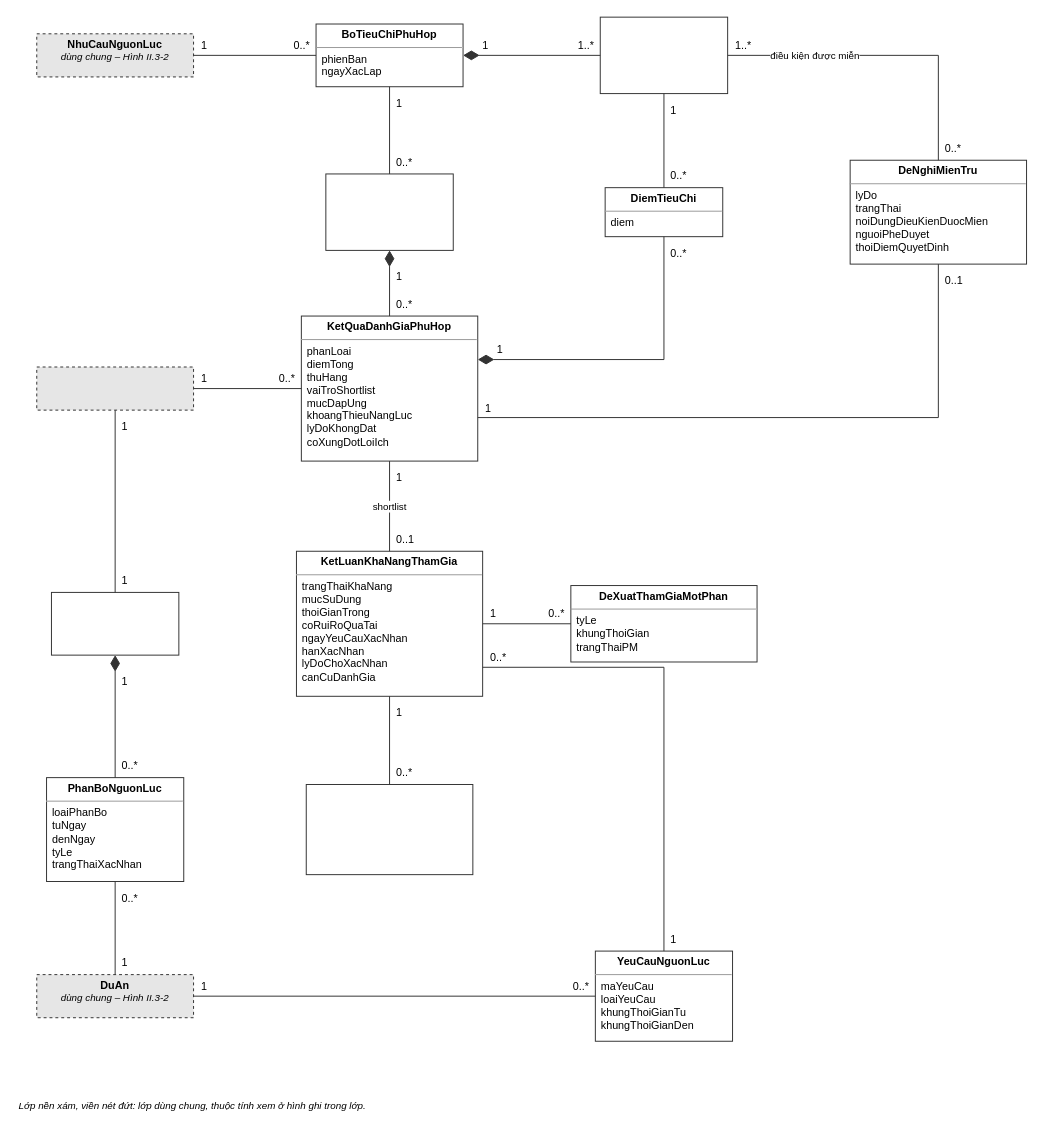
Some shapes in this 1044 by 1141 pixel diagram are drawn without their labels. The box of each missing label's shape, as (x1, y1, x2, y2) in pixels:
HoSoVuotTaiNgoaiLe mucCanhBao lyDo capThamQuyen trangThai: (305, 784, 473, 875)
LichNguonLuc thoiGianNghi ngayCapNhat: (50, 591, 179, 655)
NguonLuc dùng chung – Hình II.3-2: (36, 366, 194, 410)
PhienTimKiem maPhien thoiDiem trangThai: (325, 173, 453, 250)
TieuChiPhuHop tenTieuChi loai trongSo: (599, 16, 728, 94)
